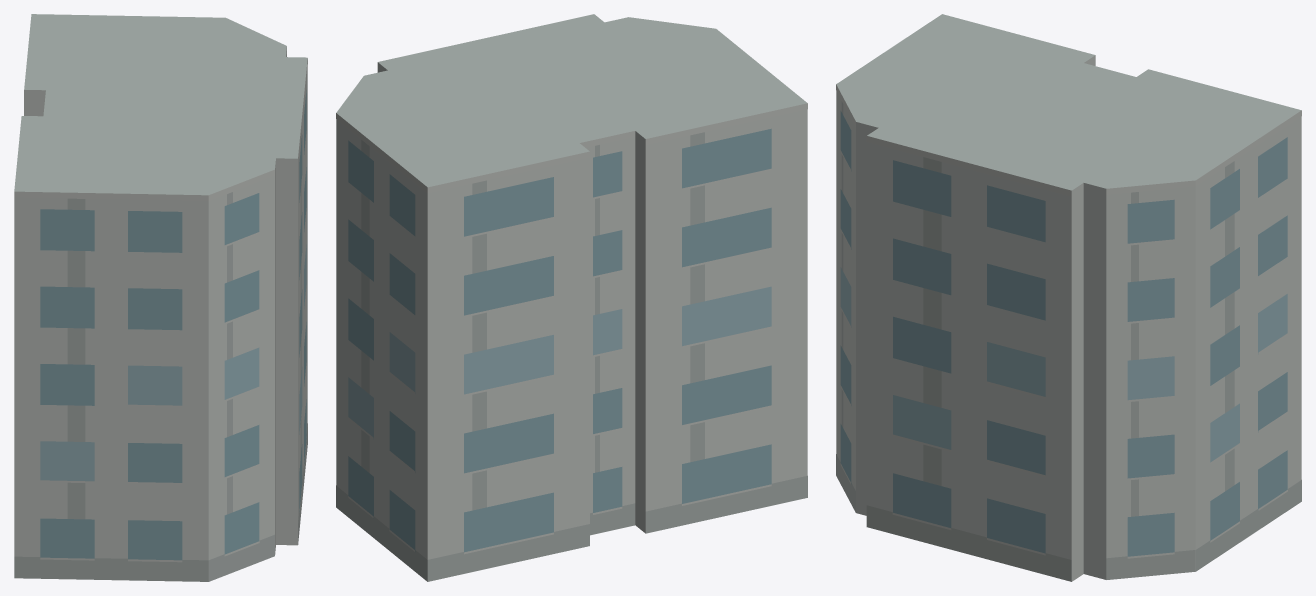
File: survey-upis-32542535.glb
3 views of the same model, side by side, from view 1: azimuth 30°, elevation 25°; view 2: azimuth 150°, elevation 25°; view 3: azimuth 270°, elevation 25° (orthographic). The views are drawn at different scales.
Parts seen in each view (by area): view 1: survey-upis-32542535.tmp; view 2: survey-upis-32542535.tmp; view 3: survey-upis-32542535.tmp.
Boxes of the visible parts, x1=… form: survey-upis-32542535.tmp: x1=14, y1=14, x2=307, y2=581; survey-upis-32542535.tmp: x1=336, y1=14, x2=807, y2=581; survey-upis-32542535.tmp: x1=836, y1=14, x2=1301, y2=581.
Size of the model in its own units: 15.11 by 15.6 by 16.83.
